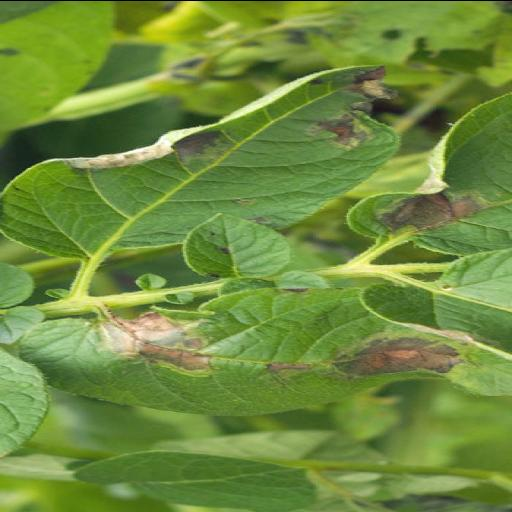disease_tomato: (2, 54, 412, 258), (13, 282, 512, 420), (346, 87, 512, 258)
